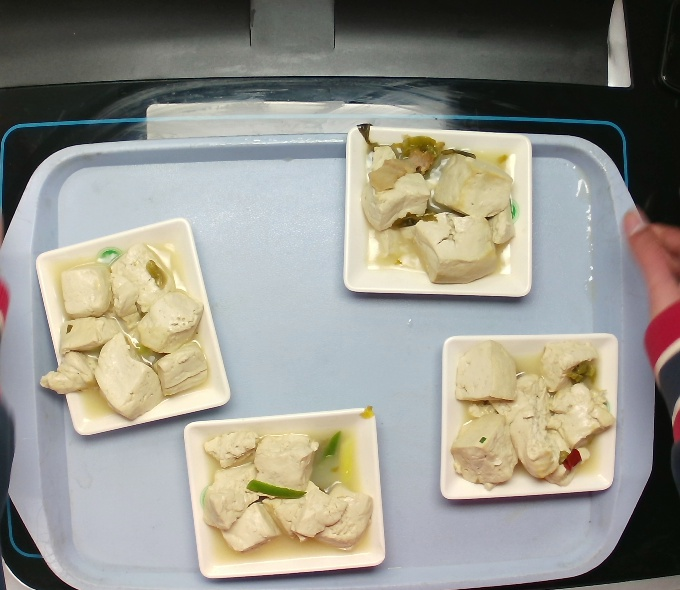wcq-LuDouFu: (32, 239, 214, 426), (446, 333, 626, 494), (351, 133, 523, 288), (196, 426, 378, 562)
